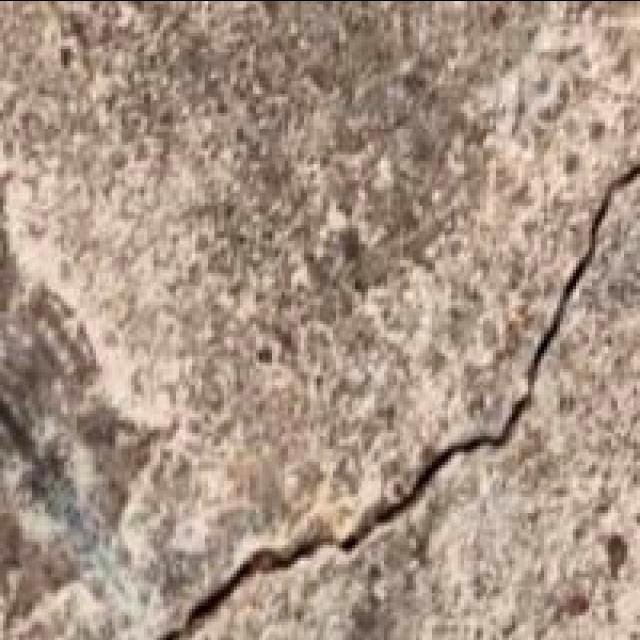SurfaceCrack: (152, 146, 640, 640)
